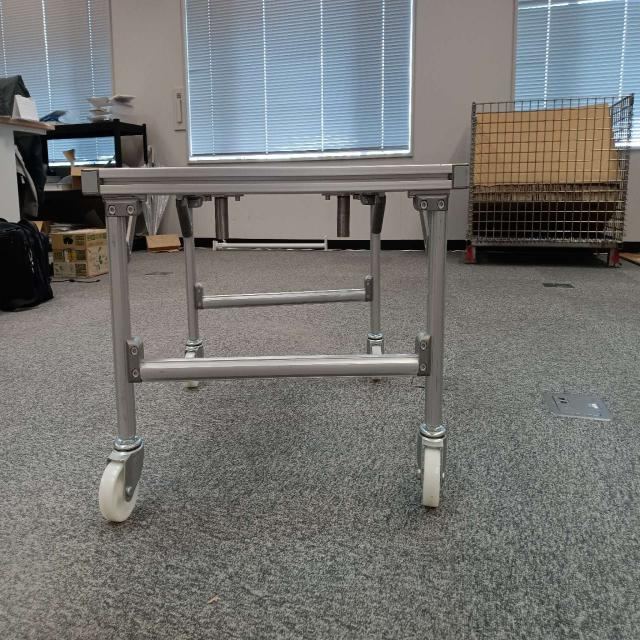box: (52, 228, 106, 277)
side: (106, 162, 442, 382)
